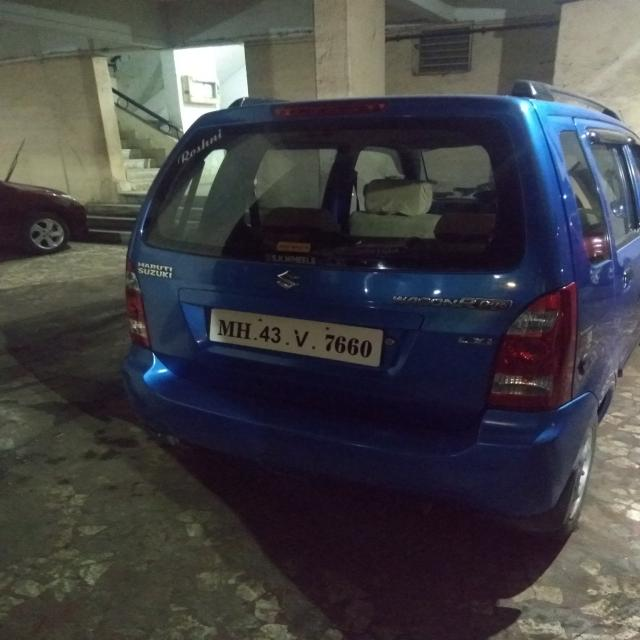Number-Plate: (218, 312, 379, 359)
